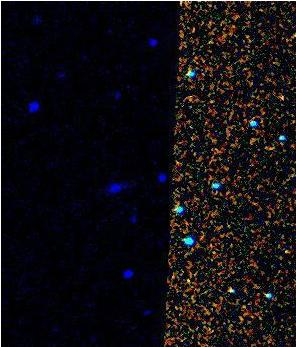star: (175, 264, 205, 294)
